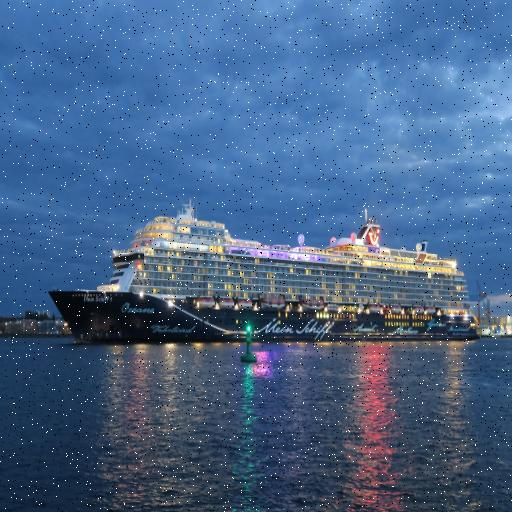cruises: (46, 197, 485, 352)
